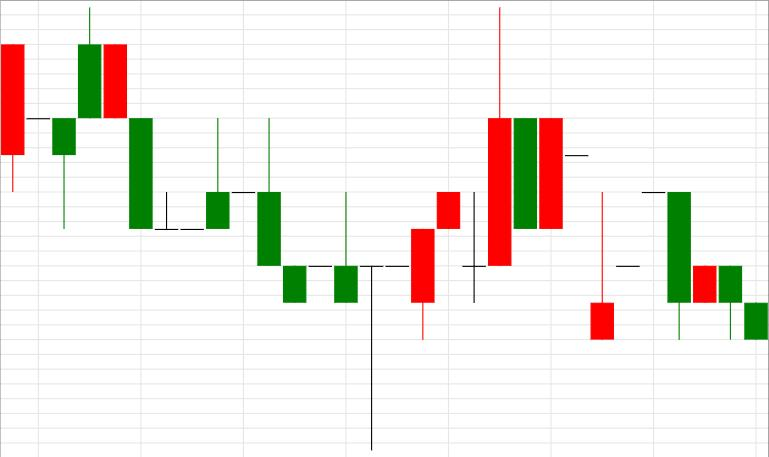inverse_hammer_rise: (232, 118, 358, 303)
